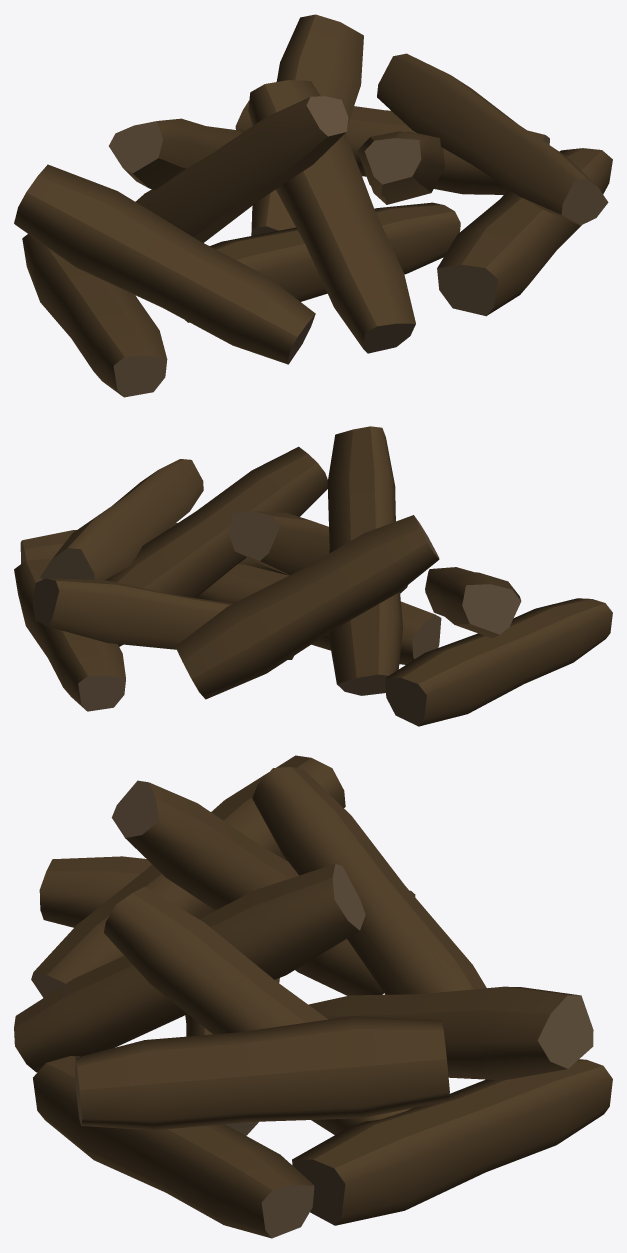
Rendered from CharcoalStack.fbx.
The picture shows the model from 3 angles, top to bottom: view 1: azimuth 30°, elevation 25°; view 2: azimuth 150°, elevation 25°; view 3: azimuth 270°, elevation 25°; orthographic projection. The views are drawn at different scales.
Visible parts, largest first — view 1: Charcoalstack; view 2: Charcoalstack; view 3: Charcoalstack.
Part boxes in pixels (x1=…): Charcoalstack: x1=14, y1=14, x2=612, y2=397; Charcoalstack: x1=14, y1=426, x2=612, y2=726; Charcoalstack: x1=14, y1=755, x2=612, y2=1238.
Size of the model in its own units: 35.68 by 13.19 by 26.55.
